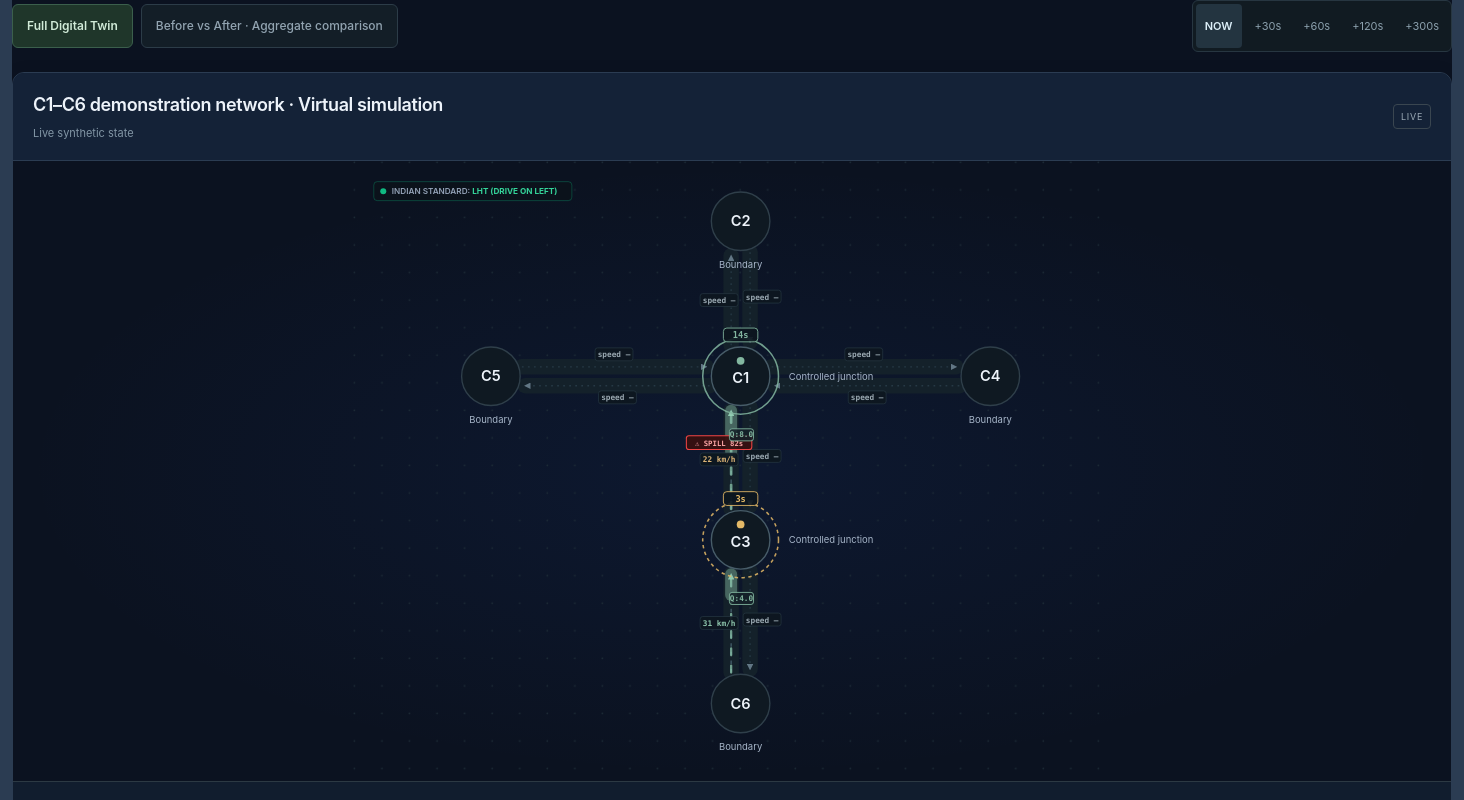
Test case: Epic 3 Network Screen Before-vs-After Mode (PRD §8.4) › displays verified aggregate comparison metrics without unsupported guarantees
This screenshot has width=1464, height=800.
// Switch to Before vs After mode
Click the button "Before vs After · Aggregate comparison".
click(269, 26)  # box [141,4,398,48]
(page scrolled)
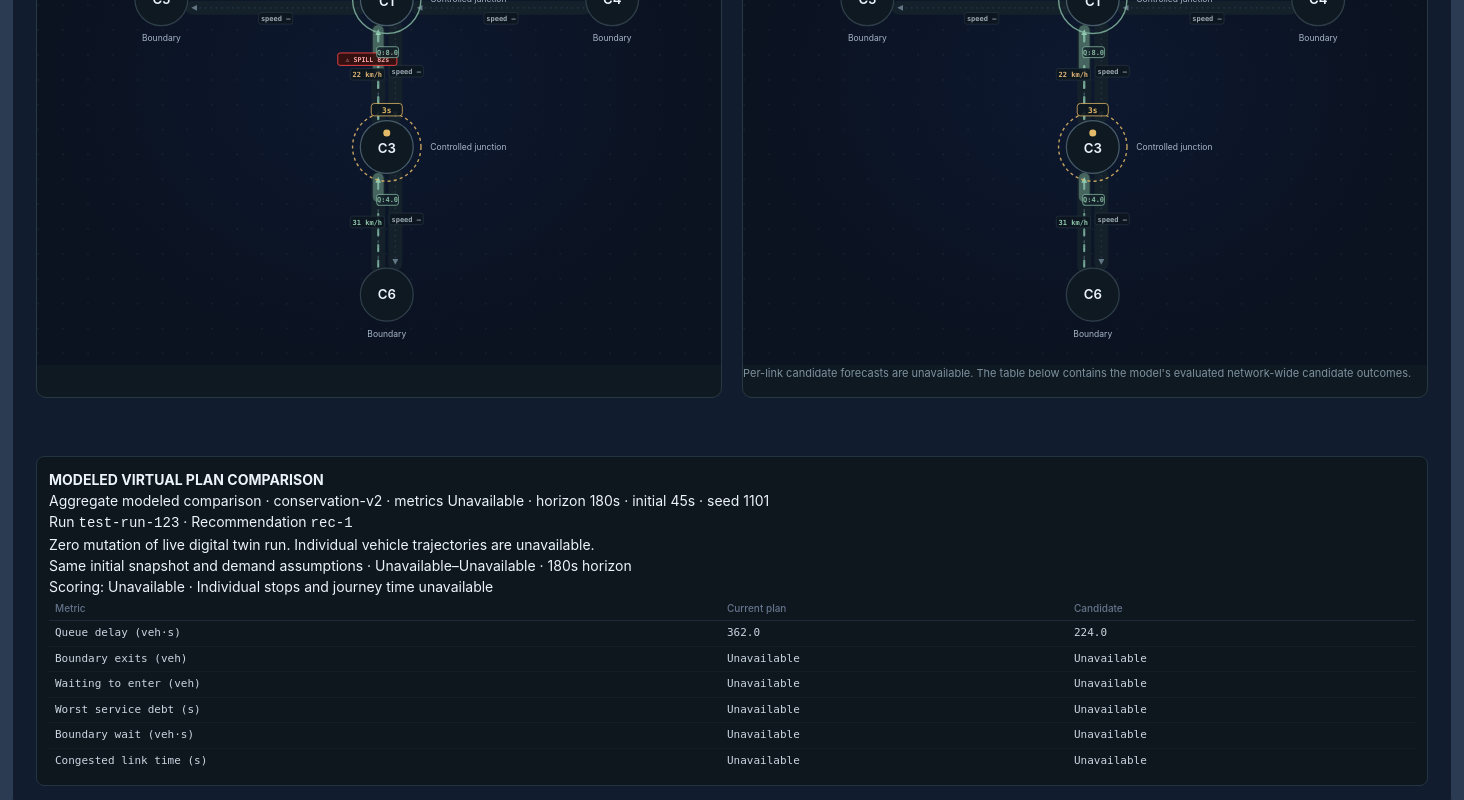
expect the element named "Matched virtual comparison" is shown: met, box [36,456,1428,786]
expect the text "362.0" is shown: met, box [721,621,1068,646]
expect the text "224.0" is shown: met, box [1068,621,1415,646]
